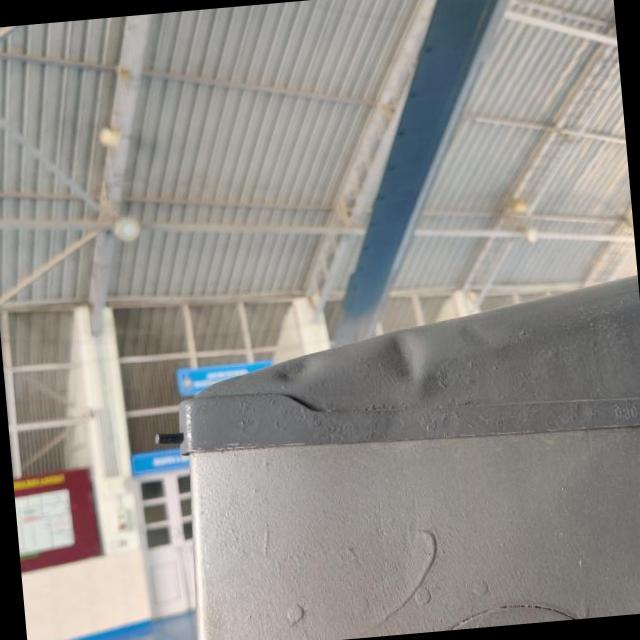Dent: (370, 327, 431, 395), (268, 353, 321, 393)
